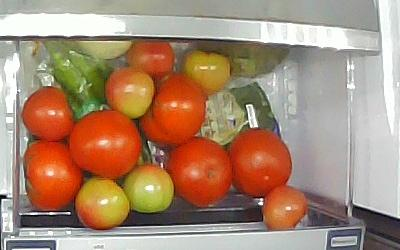tomato: (68, 110, 141, 179), (165, 135, 232, 207), (141, 76, 207, 147), (228, 128, 292, 197), (24, 140, 82, 212), (21, 86, 73, 140), (75, 178, 129, 230), (123, 164, 174, 213), (105, 68, 154, 118), (181, 49, 231, 95), (262, 184, 309, 231), (126, 39, 175, 77)
